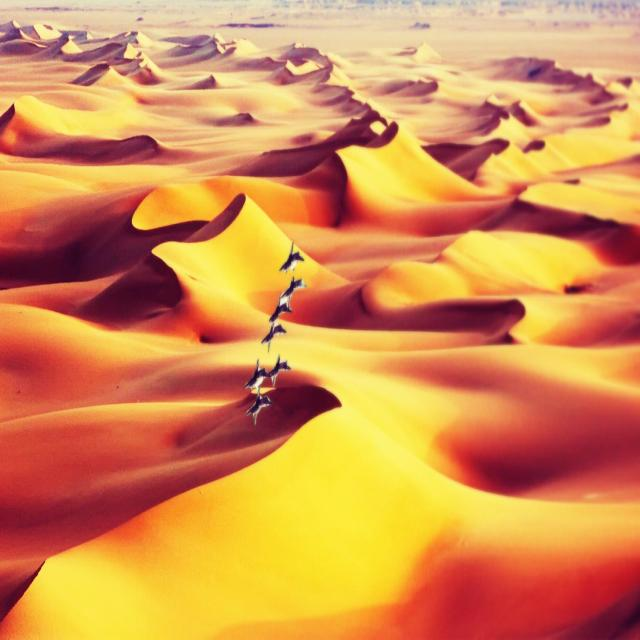airplane: (278, 238, 305, 275), (244, 358, 267, 394), (248, 391, 272, 424), (279, 278, 307, 306), (260, 325, 288, 351), (267, 355, 291, 384), (268, 302, 292, 323)
